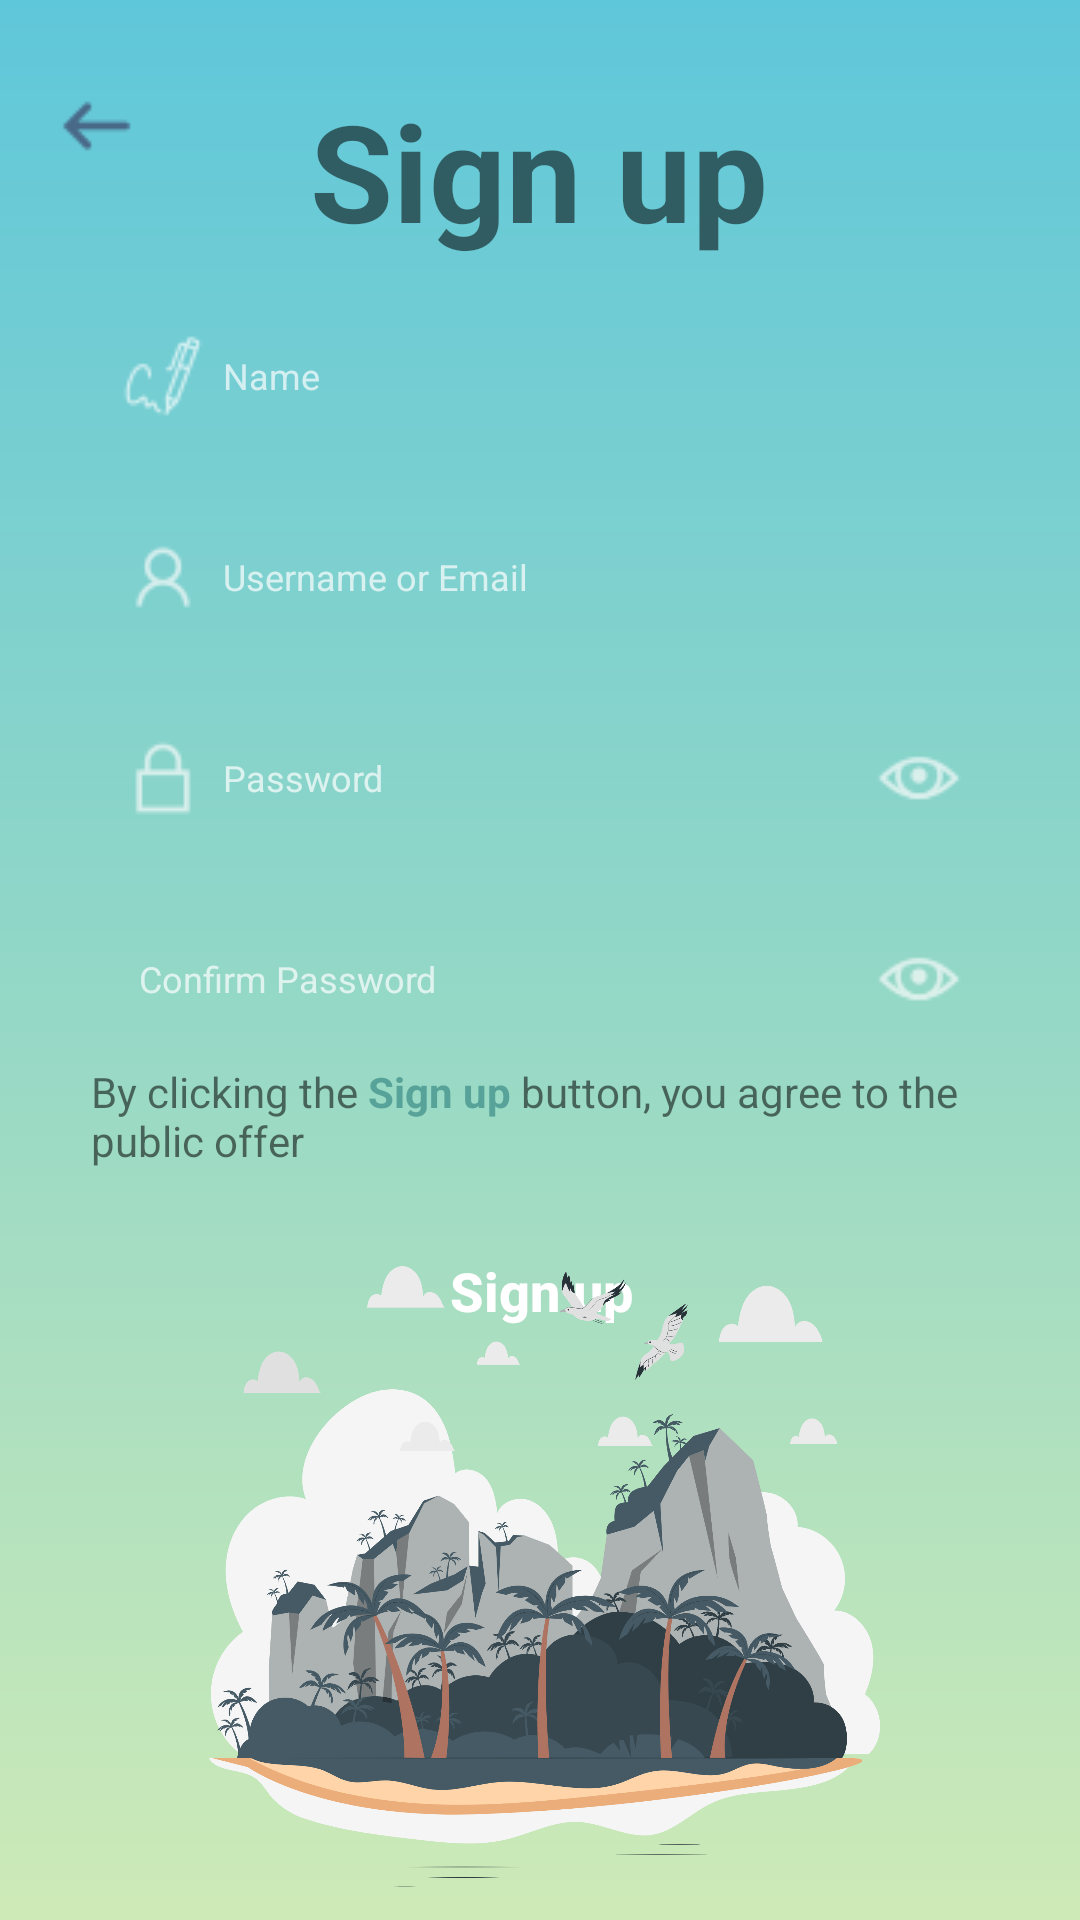

Point at icon controls on the screen. Image size 1080 x 1920, points as point (x, y).
left: point (96, 126)
